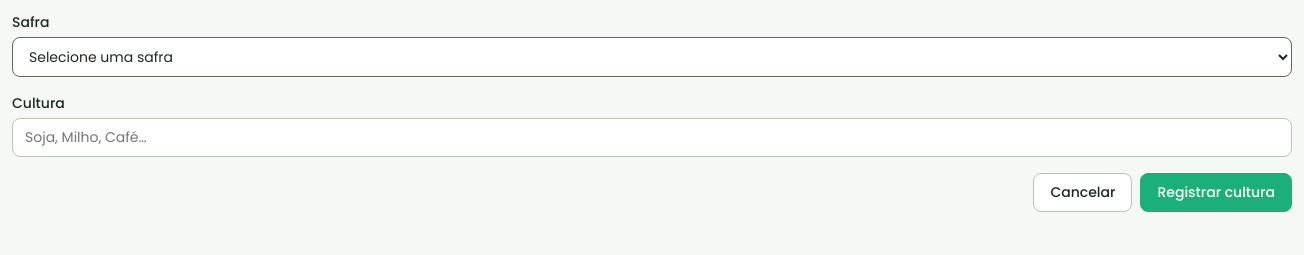
CropForm › requires a season
Type "Soja" into the field labelled "Cultura" at (652, 138), box [12, 118, 1292, 157]
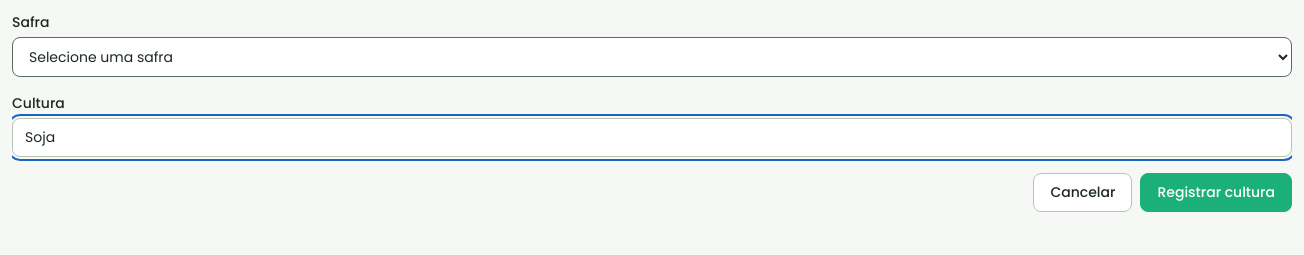
Click the button "Registrar cultura" at (1216, 192), box [1140, 173, 1292, 212]
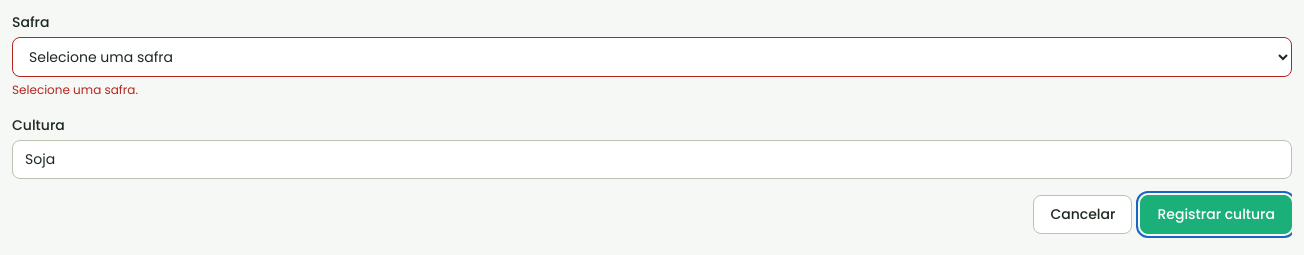
expect the text "Selecione uma safra." is shown: met, box [12, 81, 138, 98]
